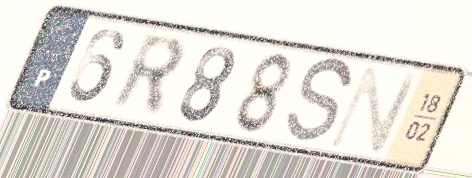6: (66, 26, 127, 108)
8: (232, 50, 297, 137), (179, 44, 238, 125)
N: (323, 63, 426, 155)
R: (106, 28, 191, 122)
S: (281, 55, 356, 148)
